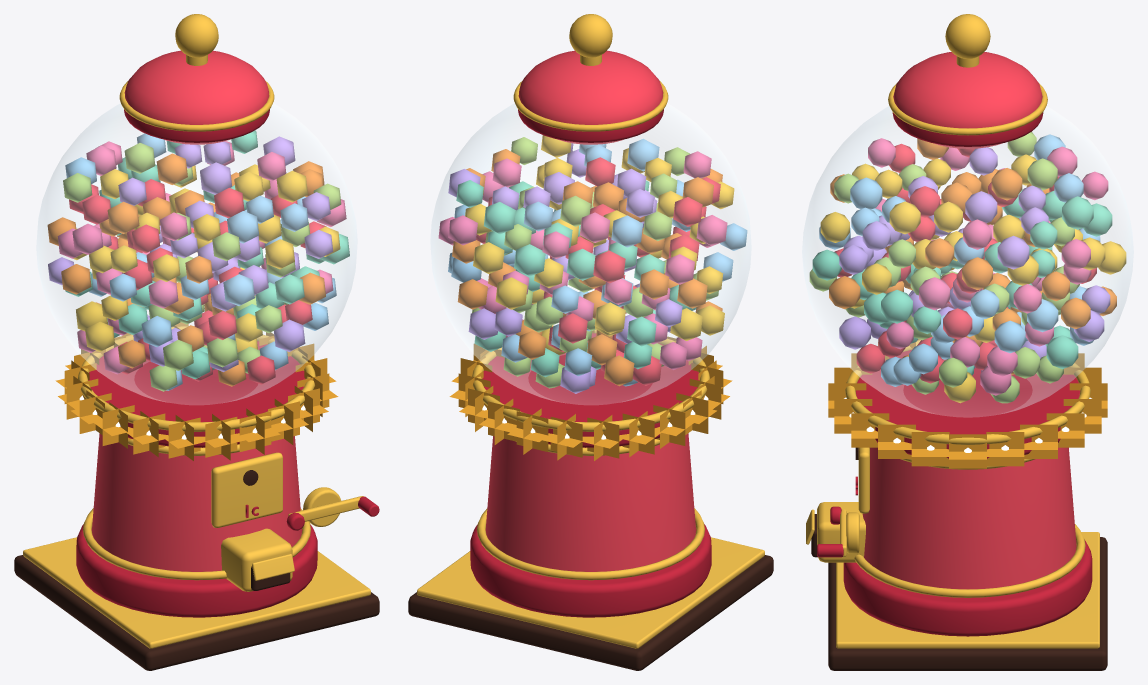
The model's file is candy_gumball_machine.glb.
3 renders of one model, left to right at view 1: azimuth 30°, elevation 25°; view 2: azimuth 150°, elevation 25°; view 3: azimuth 270°, elevation 25°, orthographic. The views are drawn at different scales.
Visible parts, largest first — view 1: Gumball, Crank; view 2: Gumball; view 3: Gumball, Crank.
Boxes of the visible parts, x1=… form: Gumball: x1=14, y1=14, x2=379, y2=670; Crank: x1=286, y1=487, x2=379, y2=530; Gumball: x1=408, y1=14, x2=773, y2=670; Gumball: x1=802, y1=14, x2=1133, y2=670; Crank: x1=817, y1=506, x2=859, y2=557.
Size of the model in its own units: 8.8 by 17.5 by 8.8.
